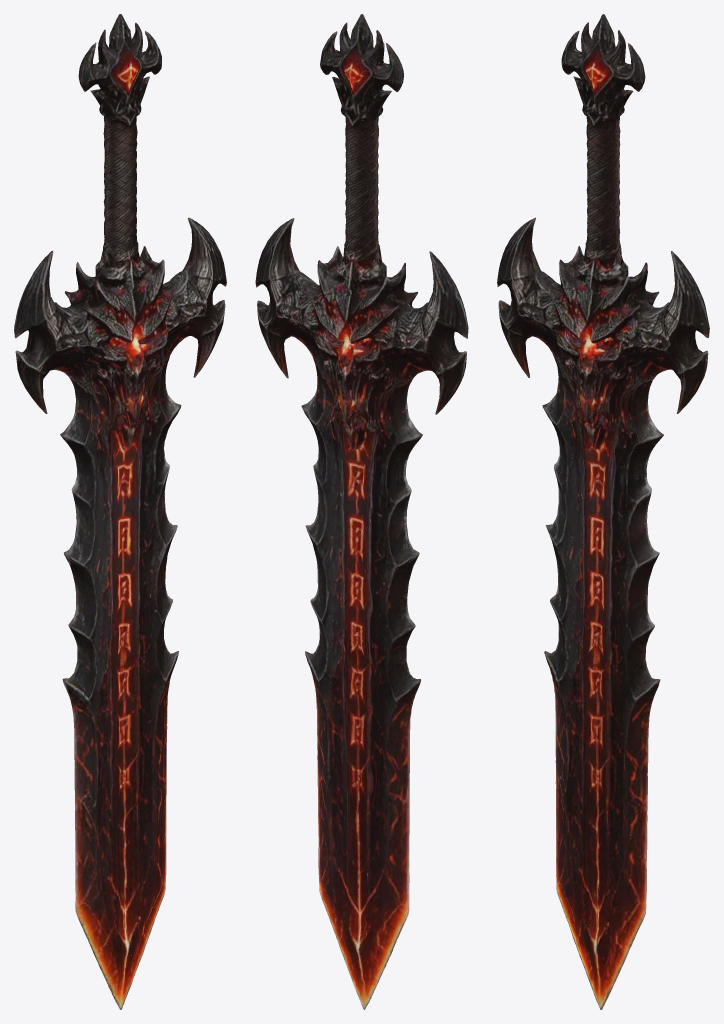
The model's file is my_reaper.glb.
3 renders of one model, left to right at view 1: azimuth 30°, elevation 25°; view 2: azimuth 150°, elevation 25°; view 3: azimuth 330°, elevation 25°, orthographic.
Size of the model in its own units: 0.4211 by 1.9 by 0.1295.
1 material, 1 textured.
